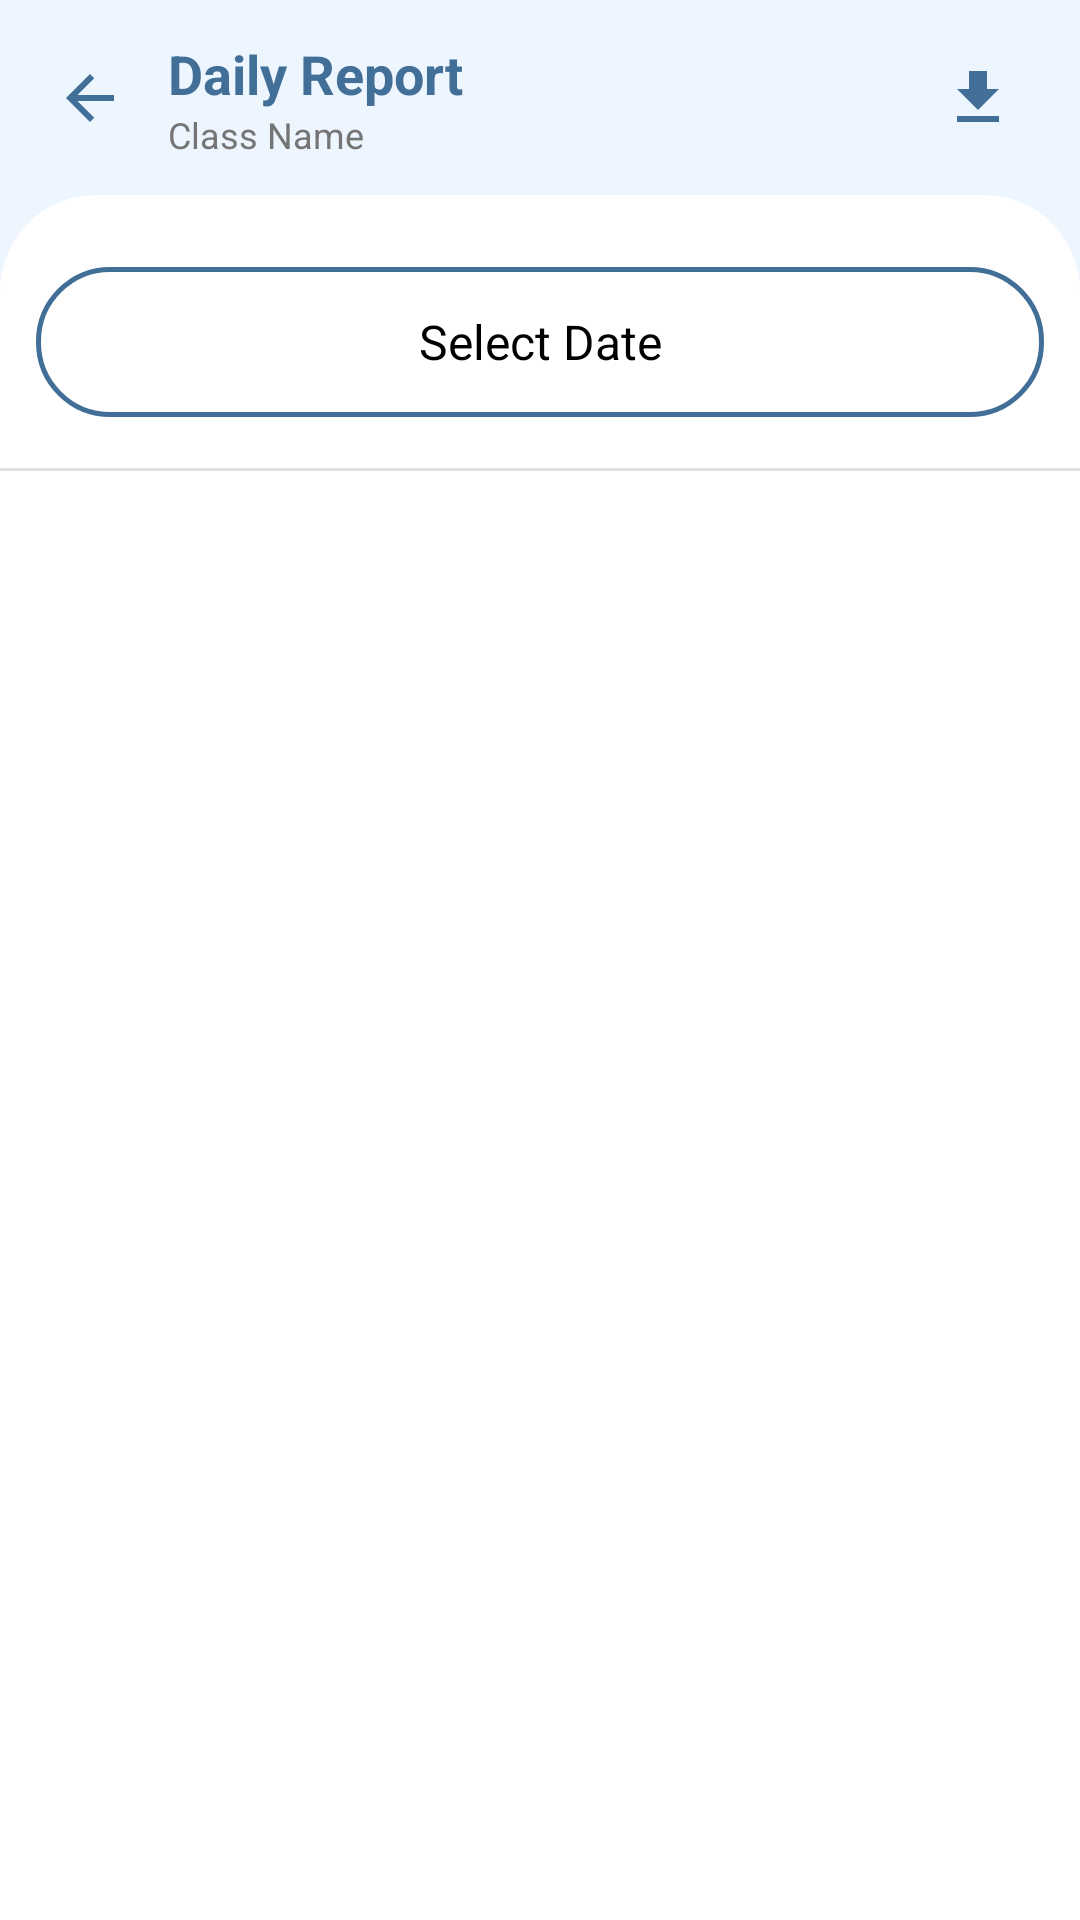

Point at icon controls on the screen. Image size 1080 × 1920, points as point (x, y).
back: point (90, 98)
download: point (978, 96)
